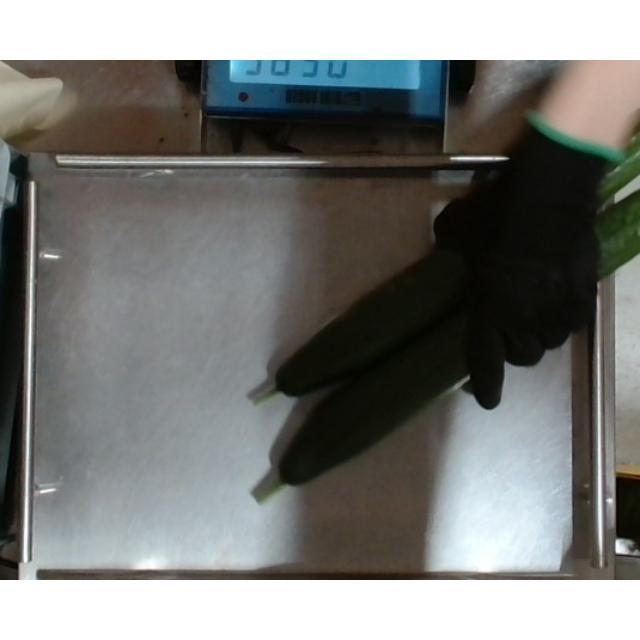cucumber: (252, 195, 640, 508), (246, 136, 640, 400)
